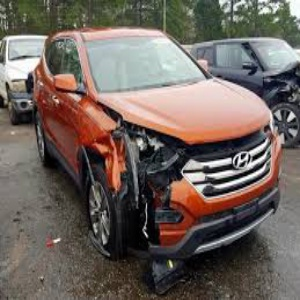bumper: (118, 187, 202, 291)
